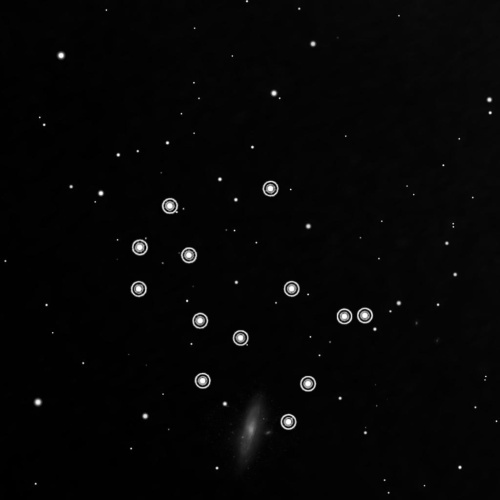gemini: (117, 178, 381, 435)
